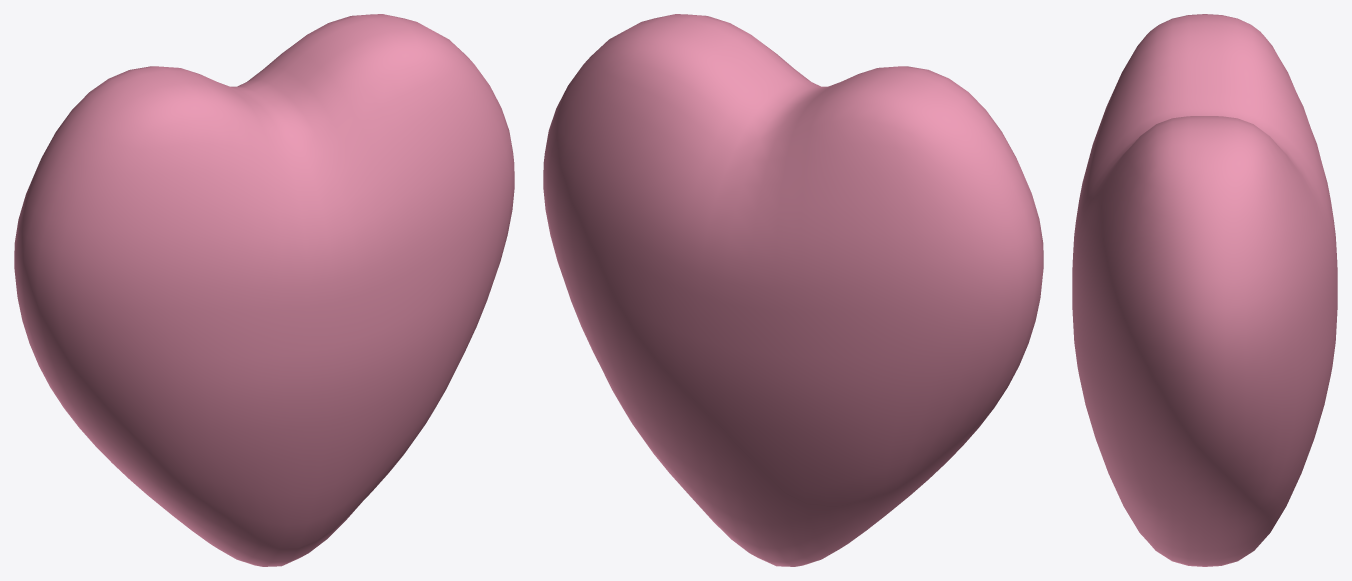
File: Heart.fbx
3 renders of one model, left to right at view 1: azimuth 30°, elevation 25°; view 2: azimuth 150°, elevation 25°; view 3: azimuth 270°, elevation 25°, orthographic. The views are drawn at different scales.
Parts seen in each view (by area): view 1: Heart; view 2: Heart; view 3: Heart.
Part boxes in pixels (x1=…): Heart: x1=14, y1=14, x2=514, y2=566; Heart: x1=543, y1=14, x2=1043, y2=566; Heart: x1=1072, y1=14, x2=1337, y2=566.
Size of the model in its own units: 7.82 by 7.84 by 3.88.
